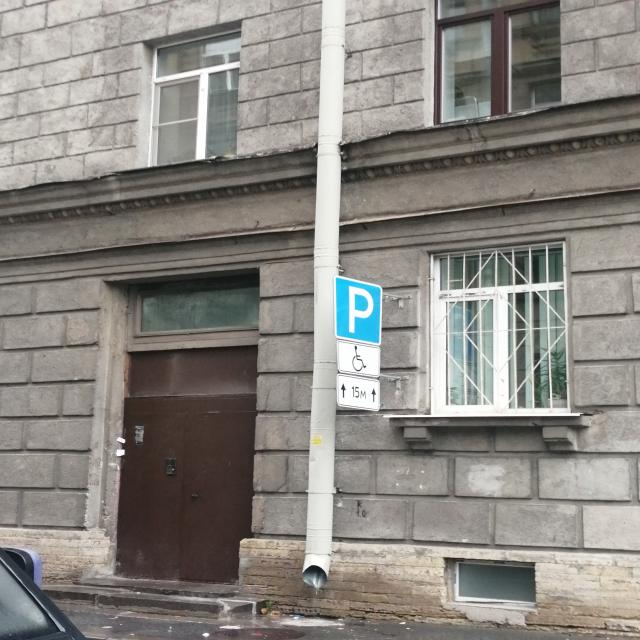road sign: (334, 273, 384, 349), (334, 339, 381, 380), (337, 377, 382, 412)
